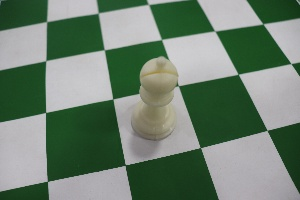white_bishop: (118, 34, 181, 148)
